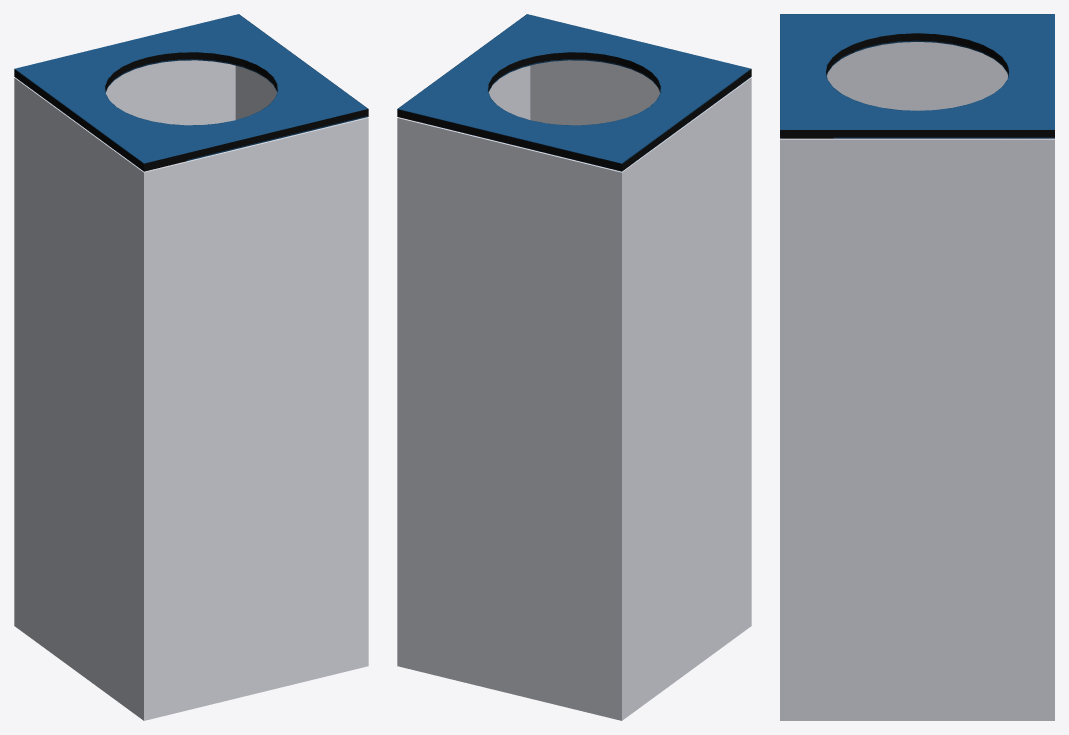
Rendered from trashcan_round.fbx.
3 renders of one model, left to right at view 1: azimuth 30°, elevation 25°; view 2: azimuth 150°, elevation 25°; view 3: azimuth 270°, elevation 25°, orthographic. The views are drawn at different scales.
Parts seen in each view (by area): view 1: Bin_round; view 2: Bin_round; view 3: Bin_round.
Boxes of the visible parts, <box> form: Bin_round: <box>14,14,368,720</box>; Bin_round: <box>397,14,751,720</box>; Bin_round: <box>780,14,1054,720</box>.
Size of the model in its own units: 30 by 71.16 by 30.
